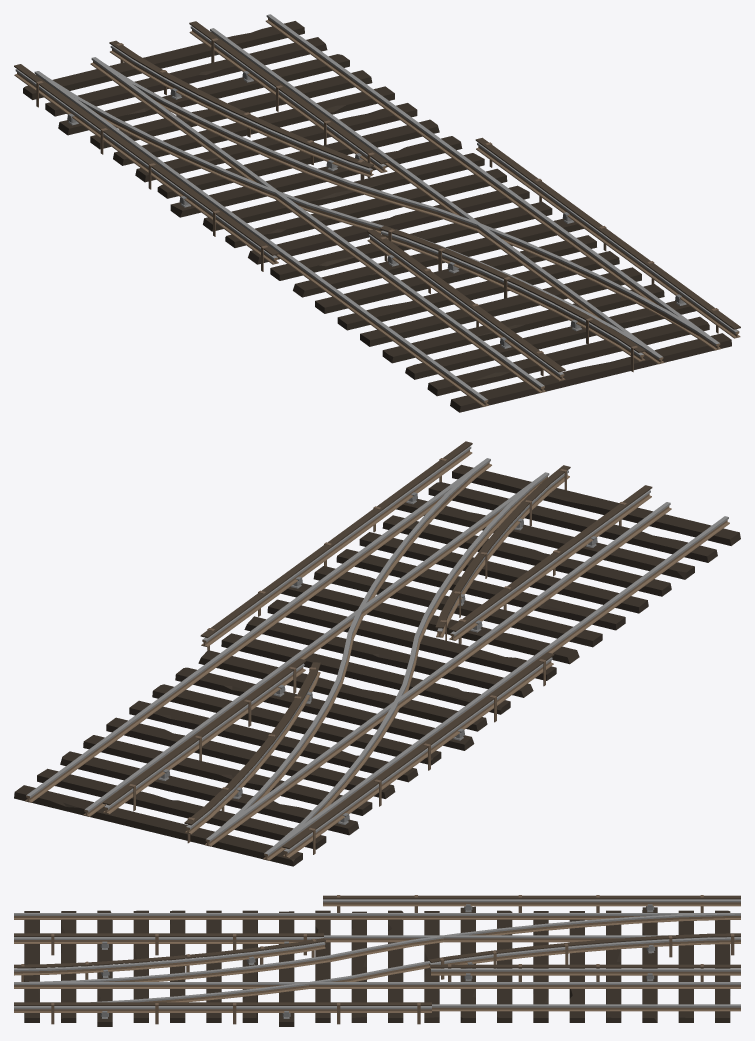
The model's file is SW_ENV_Track_DoubleToDouble_SingleCross_20m.fbx.
3 renders of one model, top to bottom at view 1: azimuth 30°, elevation 25°; view 2: azimuth 150°, elevation 25°; view 3: azimuth 270°, elevation 25°, orthographic. The views are drawn at different scales.
Visible parts, largest first — view 1: SW_ENV_Track_DoubleToDouble_SingleCross_20m; view 2: SW_ENV_Track_DoubleToDouble_SingleCross_20m; view 3: SW_ENV_Track_DoubleToDouble_SingleCross_20m.
Part boxes in pixels (box(x1,y1,x2,y2)): SW_ENV_Track_DoubleToDouble_SingleCross_20m: box(14, 14, 740, 412); SW_ENV_Track_DoubleToDouble_SingleCross_20m: box(14, 441, 740, 866); SW_ENV_Track_DoubleToDouble_SingleCross_20m: box(14, 895, 740, 1026).
Size of the model in its own units: 750 by 58.74 by 2000.
